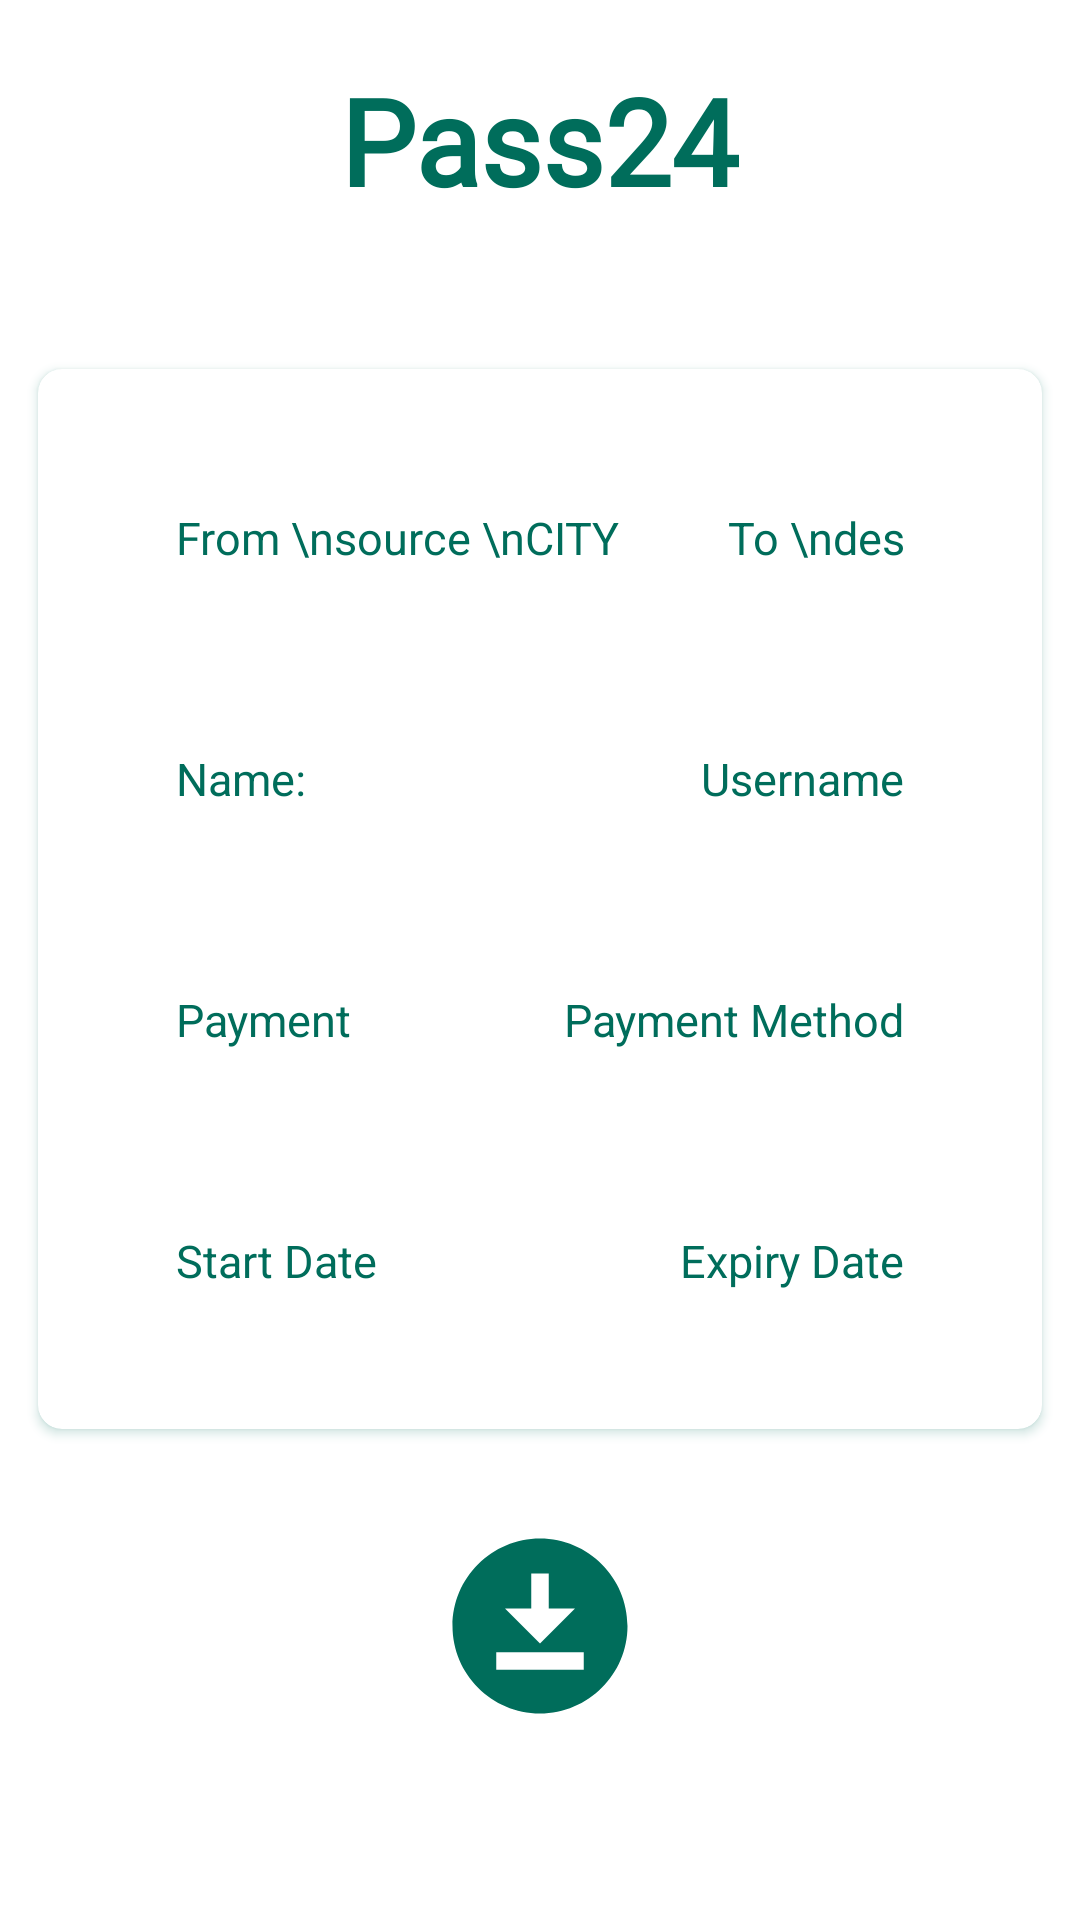

Icons on this 1080px x 1920px Android screen, each with the point to tap as [x,y]:
download: [540,1626]
